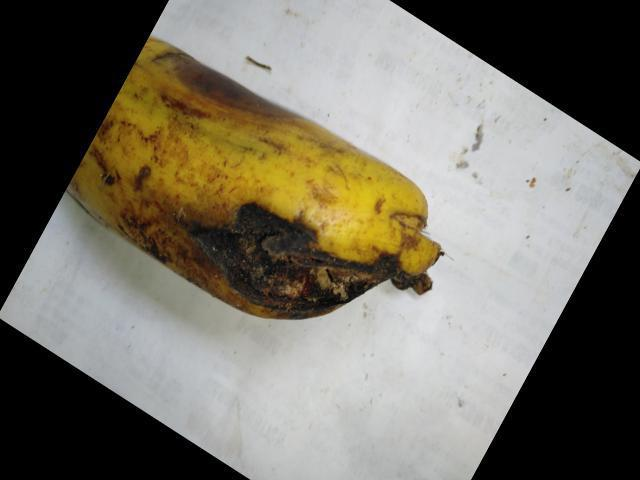rotten: (169, 186, 454, 347), (162, 26, 358, 148)
